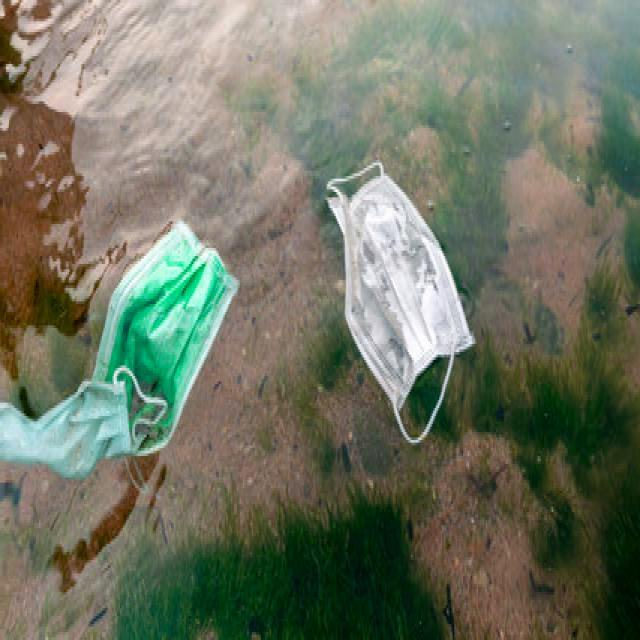Trash: (0, 219, 239, 488), (316, 156, 478, 444)
